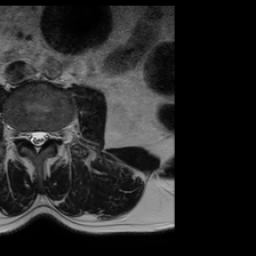CCS_normal: (33, 123, 41, 158)
LFS_normal: (49, 121, 59, 147)
LLS_normal: (41, 123, 49, 148)
RFS_normal: (17, 122, 25, 146)
RLS_normal: (25, 124, 33, 150)
